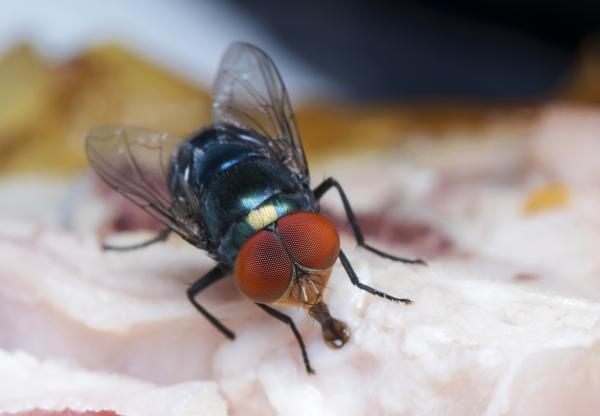green bottles flies: (75, 42, 425, 379)
